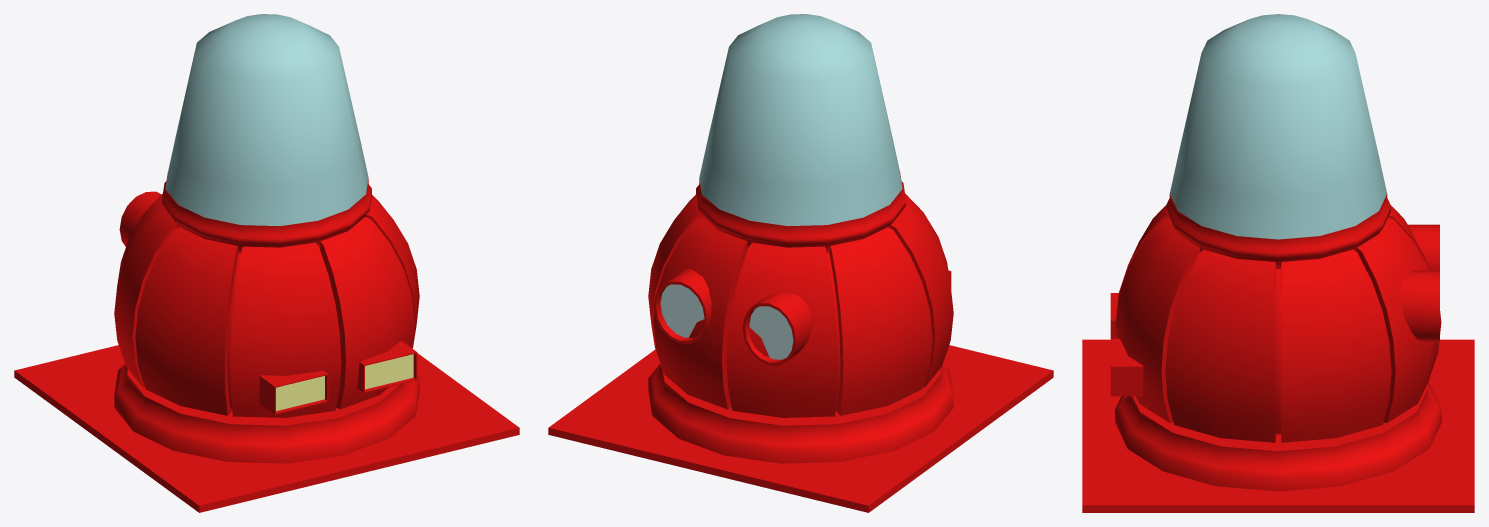
File: player.fbx
3 views of the same model, side by side, from view 1: azimuth 30°, elevation 25°; view 2: azimuth 150°, elevation 25°; view 3: azimuth 270°, elevation 25° (orthographic). The views are drawn at different scales.
Parts seen in each view (by area): view 1: Mesh13, Mesh12, Mesh01, Mesh11, Mesh10, Mesh05, Mesh02, Mesh04, Mesh03, Mesh08; view 2: Mesh13, Mesh12, Mesh01, Mesh11, Mesh10, Mesh08, Mesh07, Mesh09, Mesh06; view 3: Mesh13, Mesh12, Mesh01, Mesh11, Mesh10, Mesh06, Mesh03, Mesh08.
Part boxes in pixels (bbox=[...]): Mesh13: bbox=[114, 193, 419, 417]; Mesh12: bbox=[165, 14, 368, 225]; Mesh01: bbox=[14, 345, 519, 512]; Mesh11: bbox=[114, 364, 419, 463]; Mesh10: bbox=[162, 172, 371, 252]; Mesh05: bbox=[259, 370, 328, 414]; Mesh02: bbox=[365, 354, 413, 389]; Mesh04: bbox=[276, 376, 324, 410]; Mesh03: bbox=[357, 341, 417, 392]; Mesh08: bbox=[119, 191, 161, 246]; Mesh13: bbox=[648, 193, 953, 417]; Mesh12: bbox=[699, 14, 902, 225]; Mesh01: bbox=[548, 345, 1053, 512]; Mesh11: bbox=[648, 364, 953, 463]; Mesh10: bbox=[696, 172, 905, 252]; Mesh08: bbox=[742, 293, 812, 365]; Mesh07: bbox=[660, 284, 704, 337]; Mesh09: bbox=[749, 306, 793, 359]; Mesh06: bbox=[653, 269, 711, 343]; Mesh13: bbox=[1115, 205, 1441, 442]; Mesh12: bbox=[1170, 14, 1386, 239]; Mesh01: bbox=[1082, 339, 1474, 512]; Mesh11: bbox=[1115, 382, 1441, 491]; Mesh10: bbox=[1166, 193, 1390, 269]; Mesh06: bbox=[1400, 270, 1439, 341]; Mesh03: bbox=[1110, 339, 1143, 396]; Mesh08: bbox=[1408, 224, 1439, 270].
Size of the model in its own units: 3.6 by 4.11 by 3.6.
